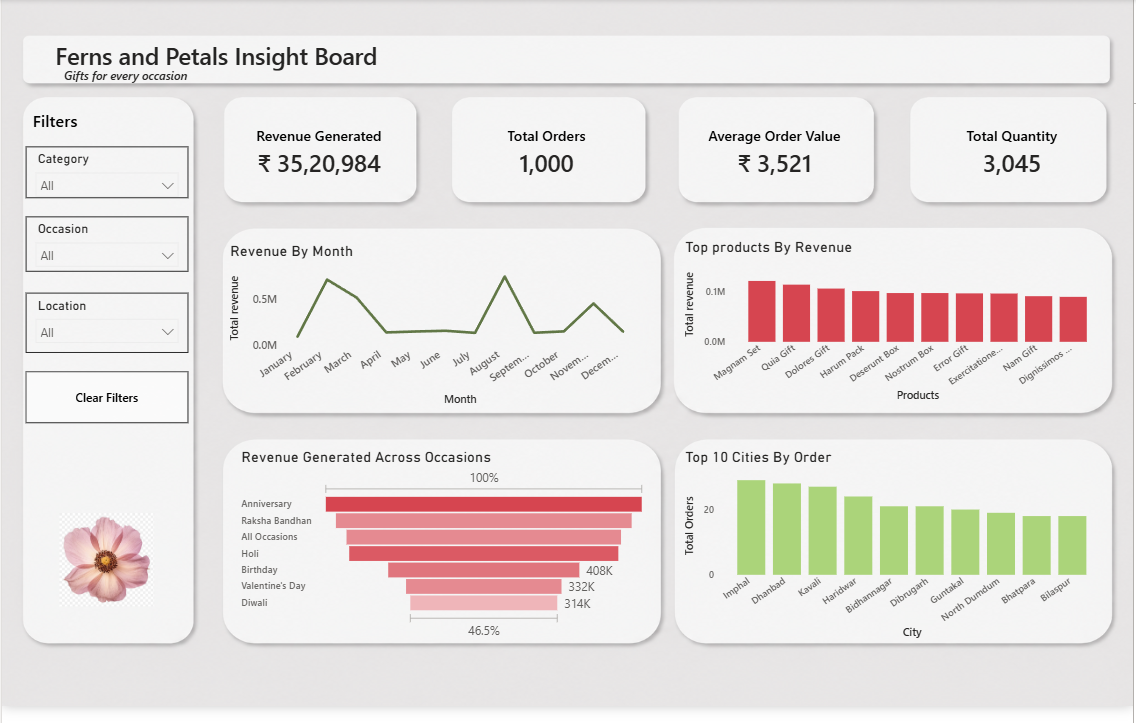

The page's visual inventory and layout, read from the dashboard file:
{"tool":"powerbi","page":{"name":"Overview","canvas":[1280,800],"ordinal":0},"visuals":[{"type":"textbox","box":[55.2,41,390.5,45.3],"z":0},{"type":"cardVisual","fields":{"Data":["Measures (2).Total revenue"]},"box":[253.9,120.8,211.3,105.7],"z":1},{"type":"cardVisual","fields":{"Data":["Measures (2).Total Orders"]},"box":[510.5,120.8,211.3,105.7],"z":2},{"type":"cardVisual","fields":{"Data":["Measures (2).Average Order Value"]},"box":[768.2,120.2,212.2,104.7],"z":3},{"type":"cardVisual","fields":{"Data":["Measures (2).Total Quantity"]},"box":[1037,120.2,212.2,104.7],"z":4},{"type":"slicer","fields":{"Values":["products.Category"]},"box":[26.9,166.9,183.9,58],"z":5},{"type":"slicer","fields":{"Values":["products.Occasion"]},"box":[26.9,246.2,183.9,62.2],"z":6},{"type":"slicer","fields":{"Values":["orders.Location"]},"box":[26.9,332.5,183.9,67.9],"z":7},{"type":"actionButton","box":[26.9,421.6,183.9,58],"z":8},{"type":"image","box":[65.1,578.6,107.5,111.8],"z":9},{"type":"lineChart","title":"Revenue By Month","fields":{"Y":["Measures (2).Total revenue"],"Category":["orders.Order_Date.Variation.Date Hierarchy.Month"]},"box":[253.2,274.4,468.3,191],"z":10},{"type":"columnChart","title":"Top products By Revenue","fields":{"Category":["products.Product_Name"],"Y":["Measures (2).Total revenue"]},"box":[768.2,270.2,481,191],"z":11},{"type":"funnel","title":"Revenue Generated Across Occasions","fields":{"Category":["products.Occasion"],"Y":["Measures (2).Total revenue"]},"box":[266,507.9,468.3,220.7],"z":12},{"type":"columnChart","title":"Top 10 Cities By Order","fields":{"Y":["Measures (2).Total Orders"],"Category":["customers.City"]},"box":[768,508,481,221],"z":13},{"type":"textbox","box":[65.1,72.1,165.5,29.7],"z":14},{"type":"textbox","box":[29.7,120.2,72.1,38.2],"z":15}]}

Visuals, with their boxes in screenshot pixels (x1, y1, x2, y2), scaled from the page's 1280x800 canvas onto the 1136x723 screenshot:
textbox: [49, 37, 396, 78]
cardVisual - Measures (2).Total revenue: [225, 109, 413, 205]
cardVisual - Measures (2).Total Orders: [453, 109, 641, 205]
cardVisual - Measures (2).Average Order Value: [682, 109, 870, 203]
cardVisual - Measures (2).Total Quantity: [920, 109, 1109, 203]
slicer - products.Category: [24, 151, 187, 203]
slicer - products.Occasion: [24, 223, 187, 279]
slicer - orders.Location: [24, 300, 187, 362]
actionButton: [24, 381, 187, 433]
image: [58, 523, 153, 624]
"Revenue By Month" lineChart: [225, 248, 640, 421]
"Top products By Revenue" columnChart: [682, 244, 1109, 417]
"Revenue Generated Across Occasions" funnel: [236, 459, 652, 658]
"Top 10 Cities By Order" columnChart: [682, 459, 1108, 659]
textbox: [58, 65, 205, 92]
textbox: [26, 109, 90, 143]
